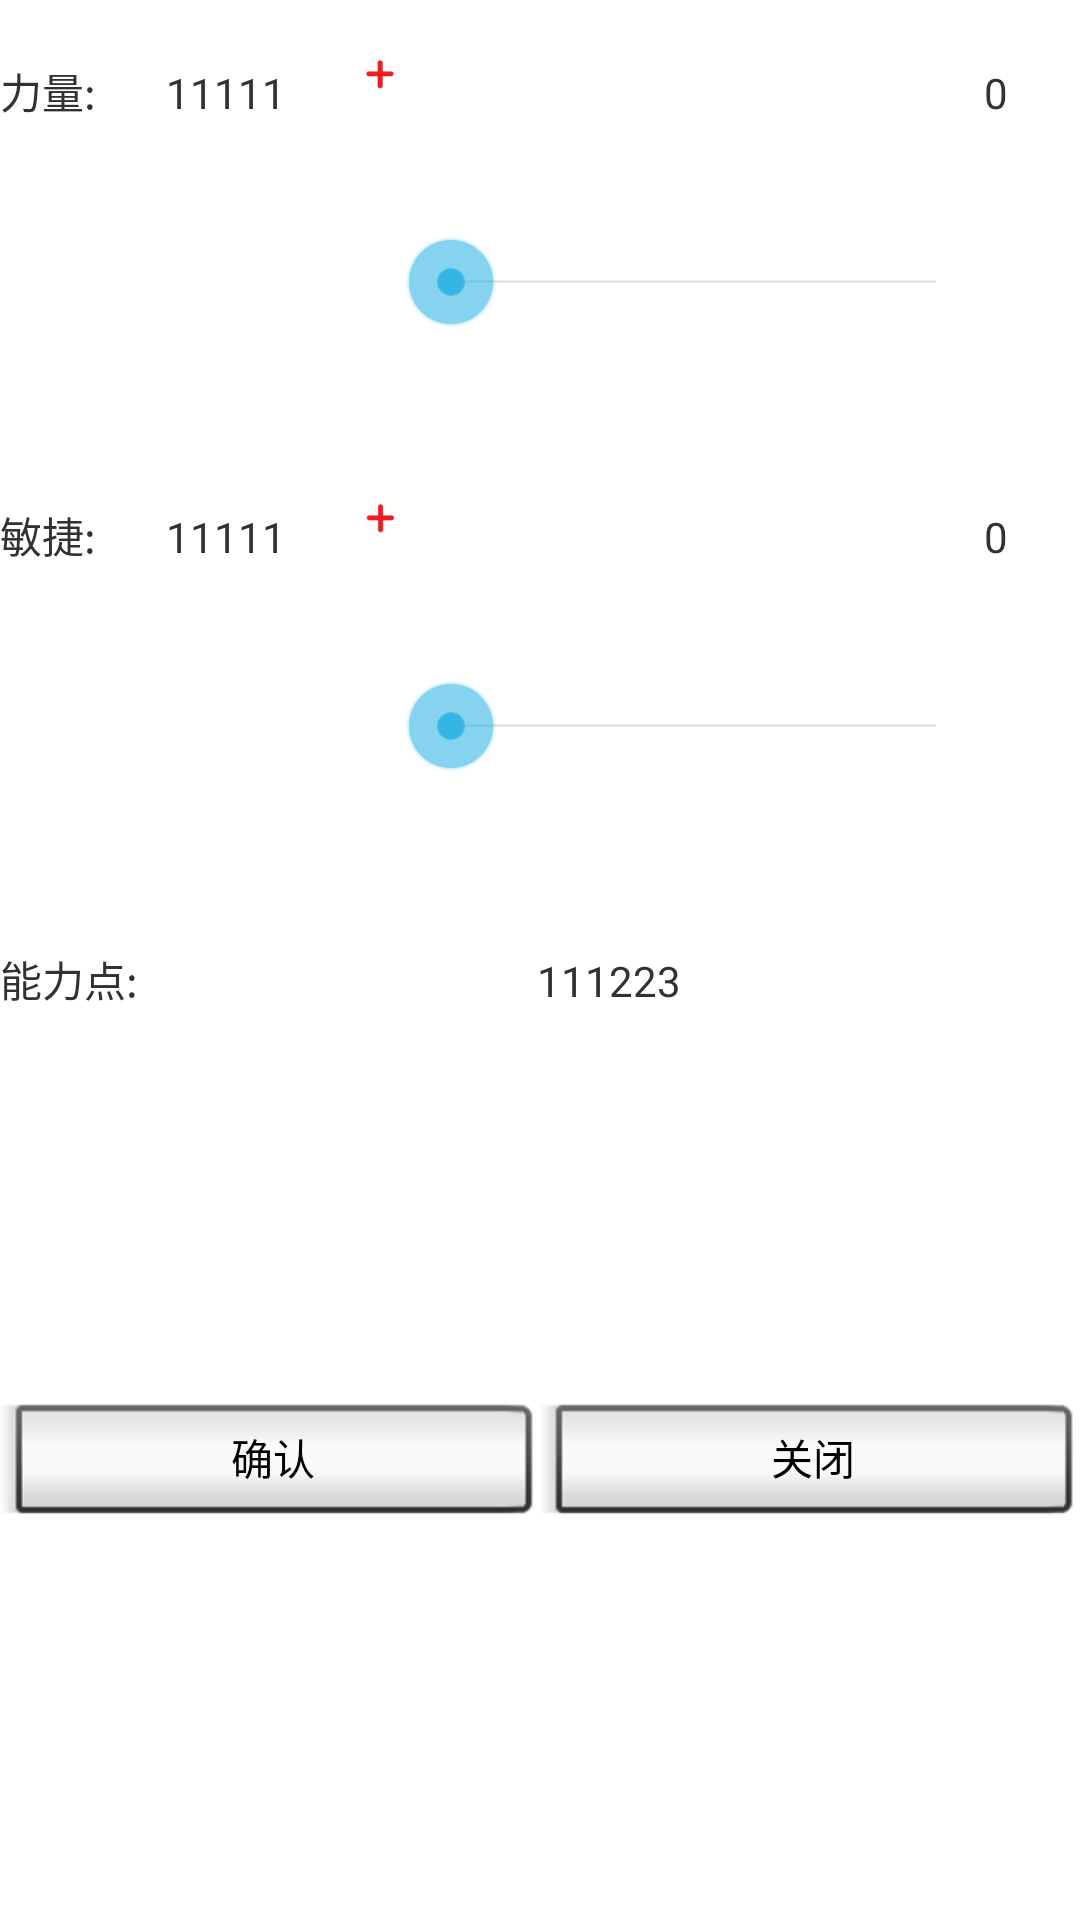

Screen size 1080w x 1920h. Icon name, then its center in pixels as [x,y]:
jiahao zi: [380,74], [380,518]
